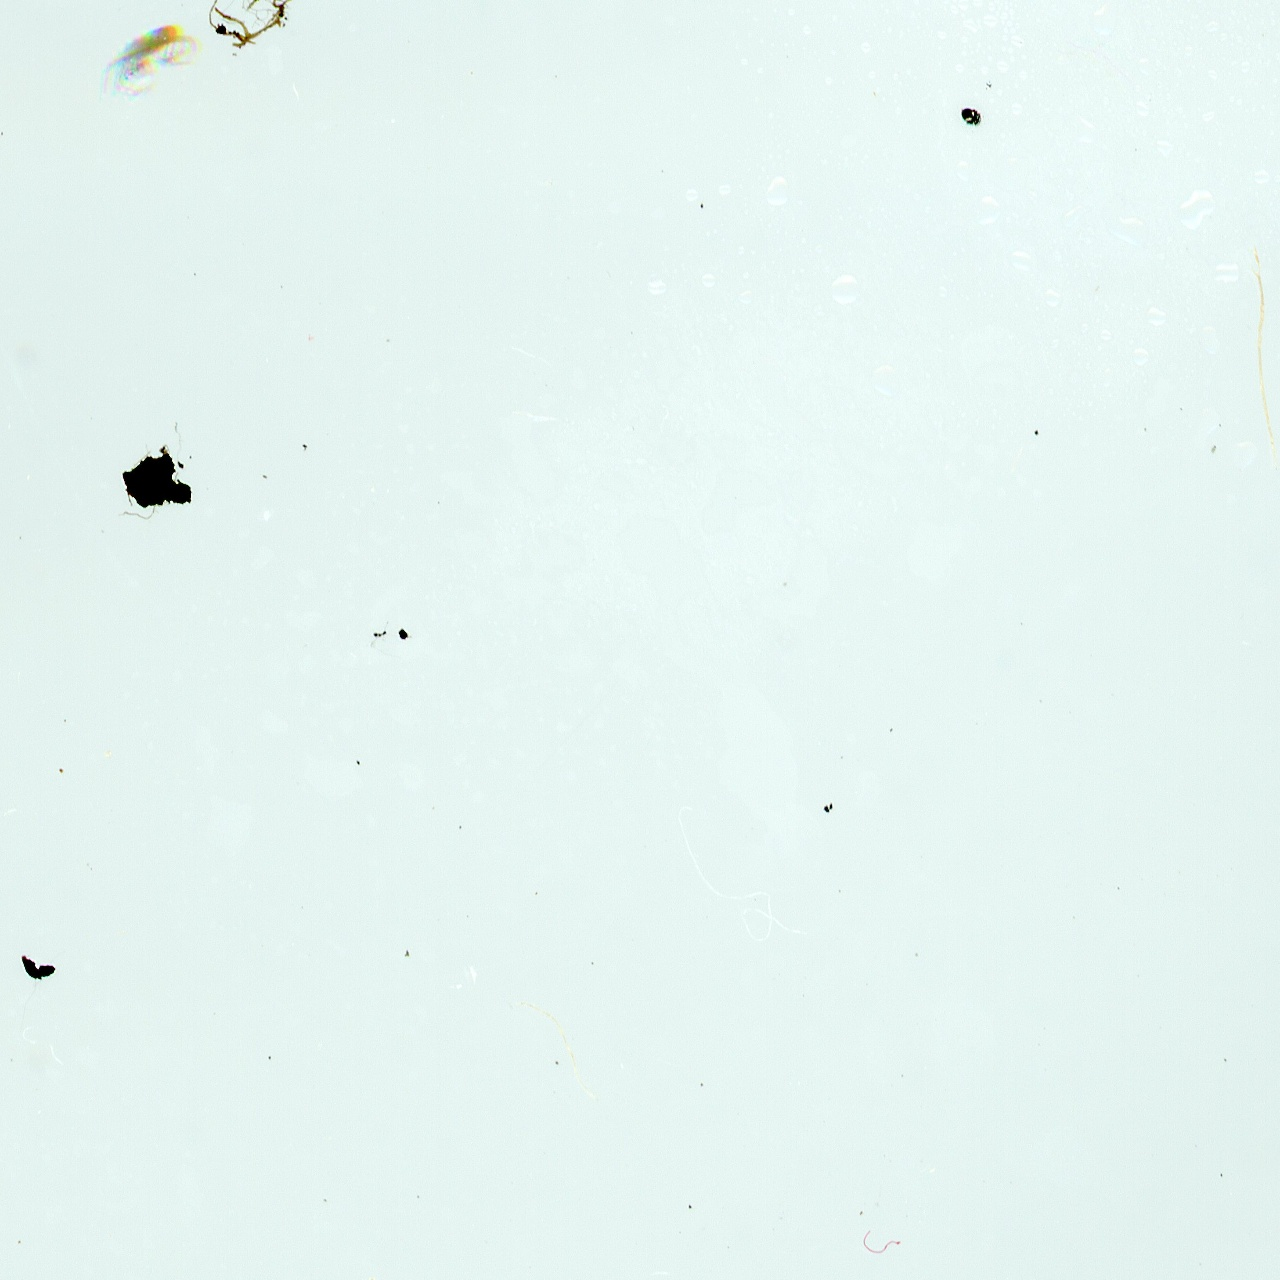arthropod: (97, 19, 199, 98)
